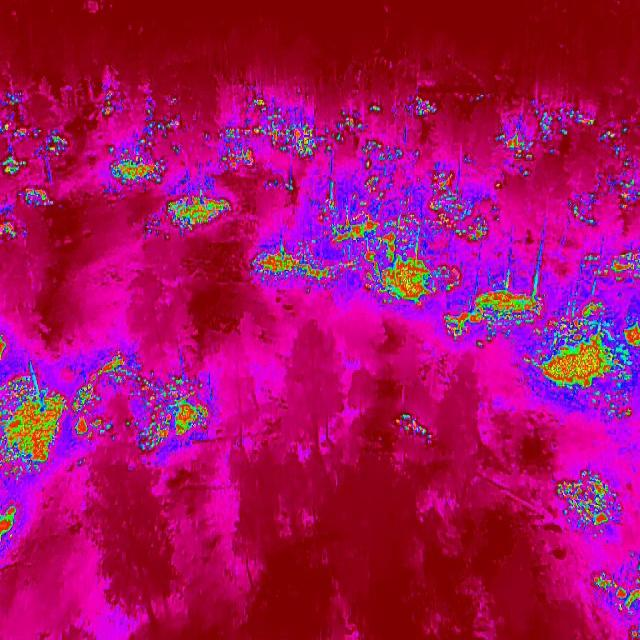fire: (322, 139, 492, 309), (68, 350, 213, 455), (520, 300, 640, 422), (0, 86, 70, 247), (215, 94, 337, 177), (98, 88, 188, 191), (0, 372, 70, 482), (442, 280, 546, 344), (552, 467, 624, 535), (250, 247, 341, 291), (575, 240, 640, 298), (603, 118, 640, 212), (168, 190, 231, 236), (536, 99, 596, 142), (588, 566, 640, 612), (334, 99, 386, 143), (496, 125, 534, 164), (396, 409, 434, 445), (565, 198, 598, 230), (407, 93, 439, 121), (0, 498, 19, 544), (629, 622, 640, 640)
